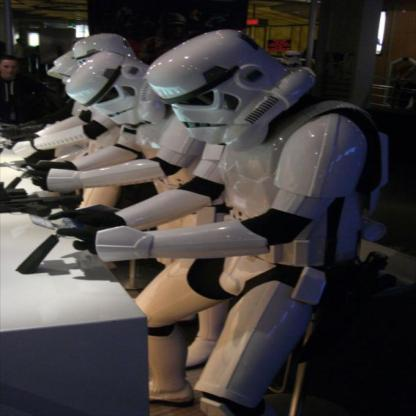Helmet: (136, 31, 325, 147), (58, 52, 169, 139), (68, 30, 136, 68), (44, 57, 84, 80)
